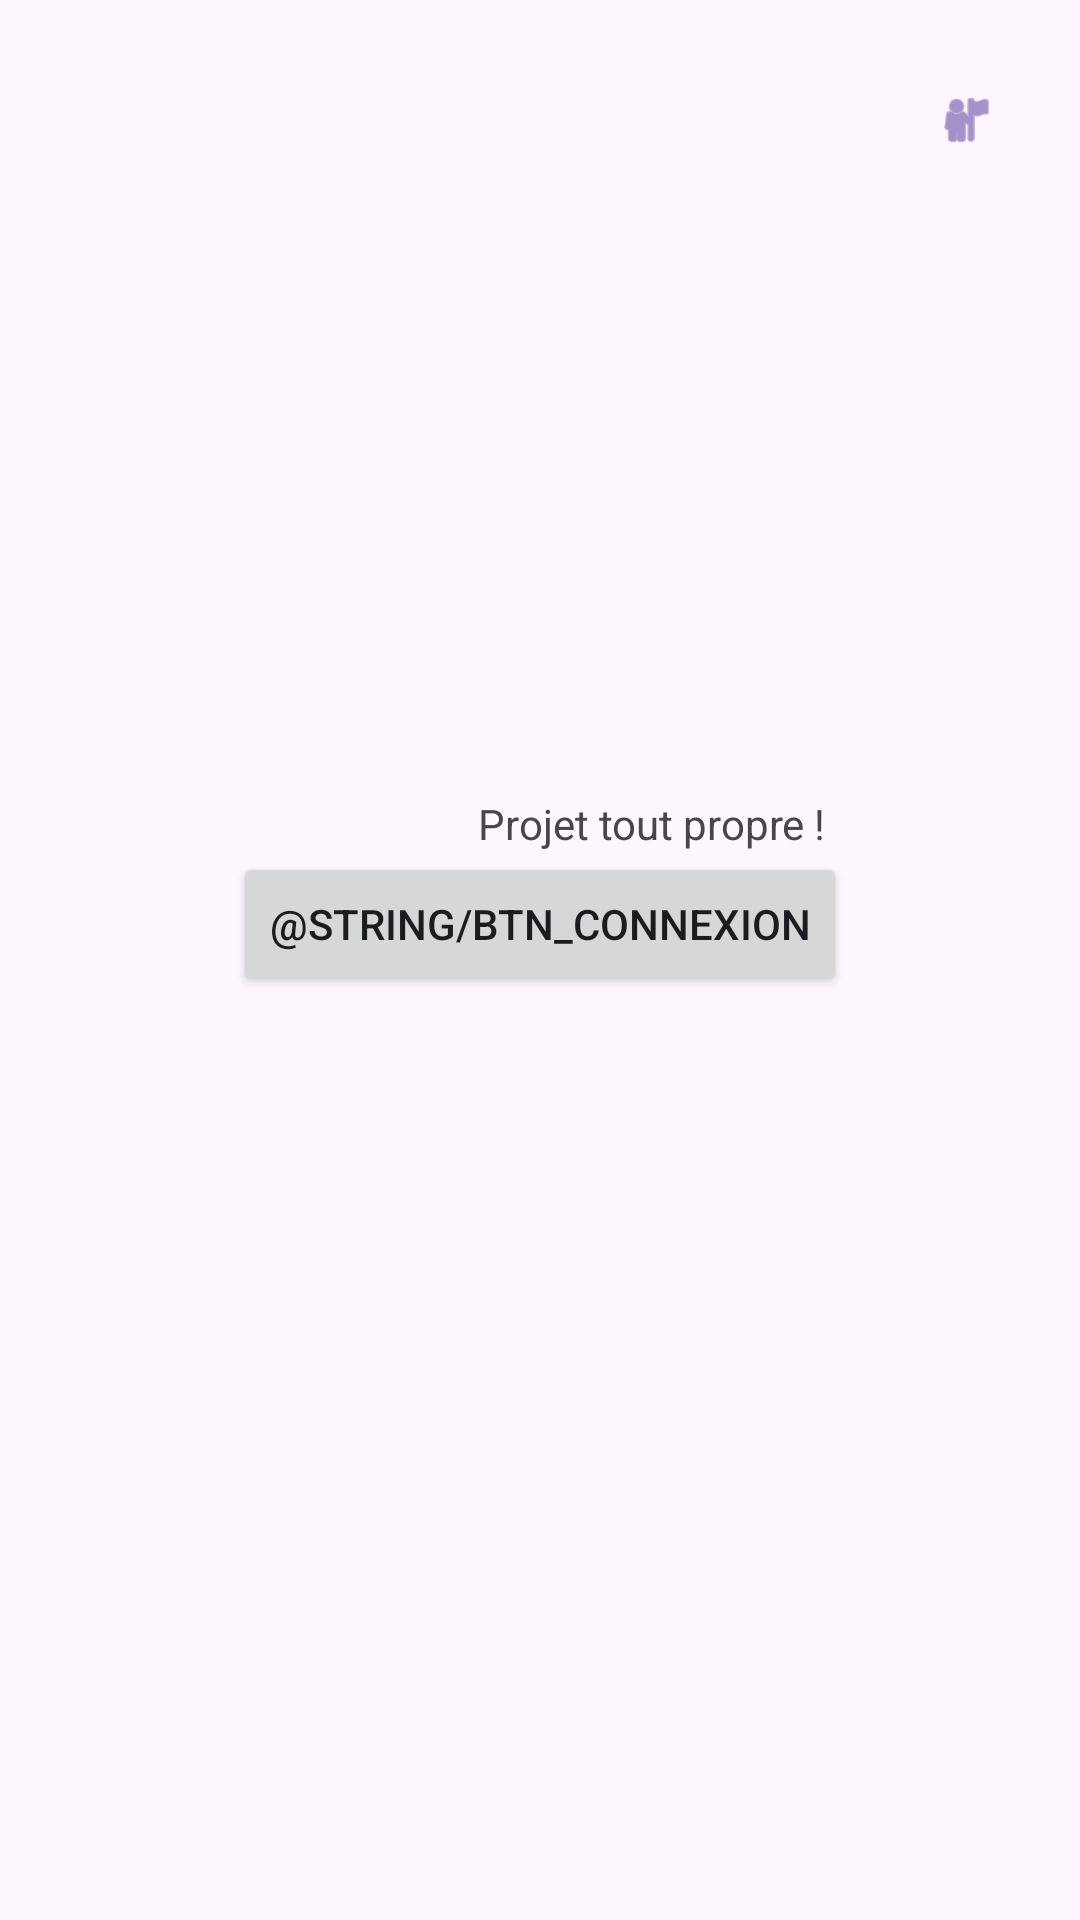

Where to tap for icons on this 1080 x 1920 app screen, as [x,y]:
myplaces: [966,120]
